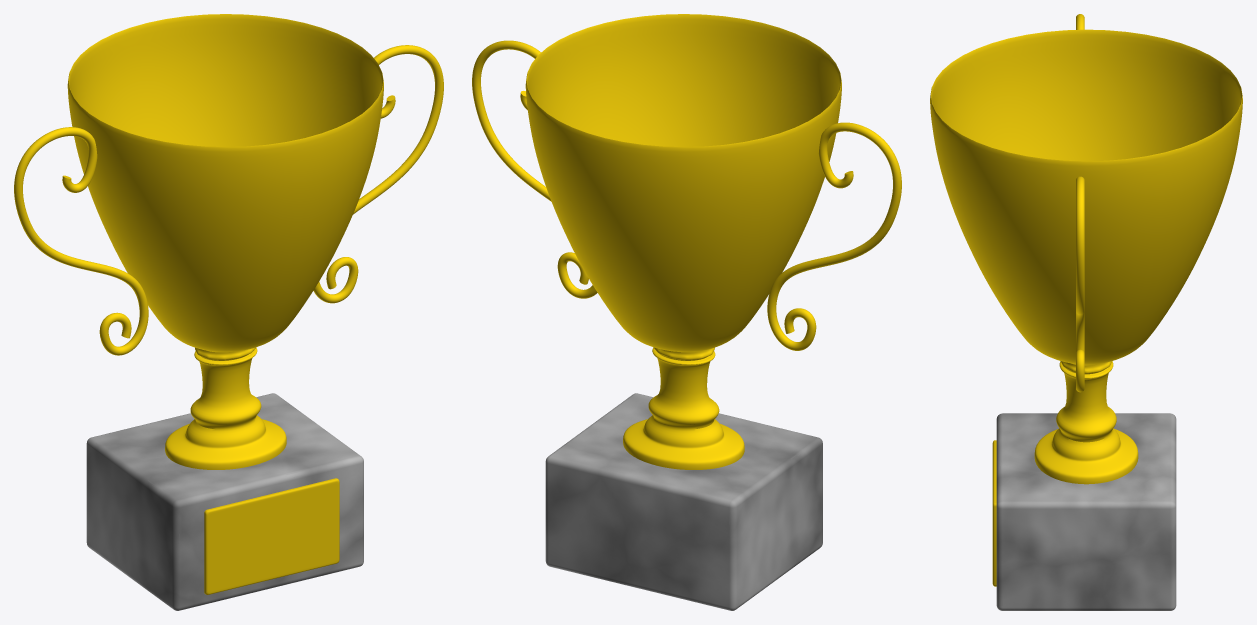
The model's file is trophy.glb.
3 renders of one model, left to right at view 1: azimuth 30°, elevation 25°; view 2: azimuth 150°, elevation 25°; view 3: azimuth 270°, elevation 25°, orthographic.
Parts seen in each view (by area): view 1: trophy, sign2; view 2: trophy; view 3: trophy.
Part boxes in pixels (box(x1,y1,x2,y2)): trophy: box(14, 14, 443, 610); sign2: box(211, 485, 335, 589); trophy: box(472, 14, 901, 610); trophy: box(930, 14, 1242, 610).
Bounding box in the file's own units: 0.6504 × 0.6912 × 0.4155.
3 materials, 1 textured.
